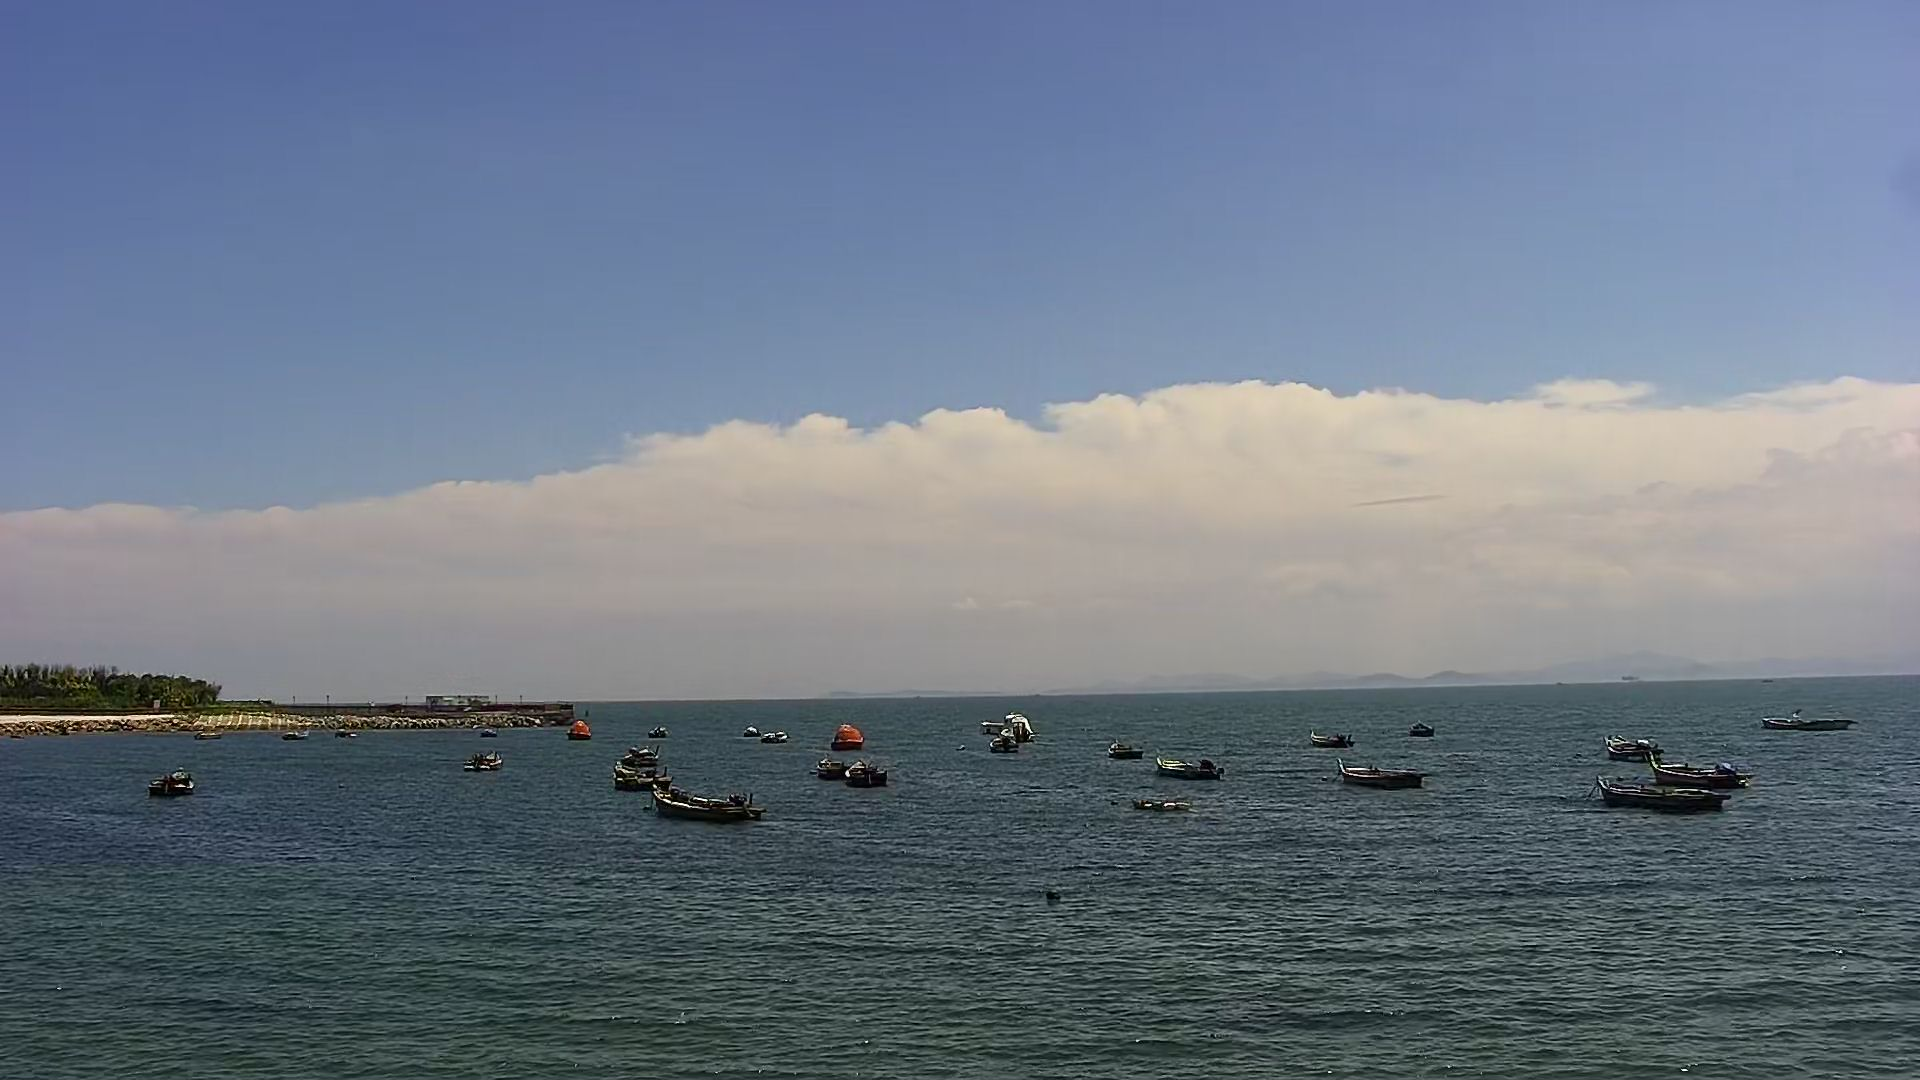ball: (1034, 887, 1071, 907)
boat: (1588, 765, 1749, 822), (1642, 744, 1779, 798), (642, 778, 781, 827), (595, 738, 690, 791), (1758, 699, 1863, 742), (1588, 723, 1692, 766), (1327, 756, 1437, 796), (1149, 750, 1255, 790), (823, 705, 891, 756), (840, 760, 913, 800), (135, 760, 200, 803), (1121, 794, 1211, 824), (448, 740, 514, 781), (996, 700, 1054, 746), (1093, 731, 1158, 767), (1286, 723, 1370, 749), (556, 709, 607, 752), (982, 728, 1035, 764), (798, 749, 851, 785), (1402, 712, 1461, 742), (638, 709, 690, 742), (273, 721, 320, 750), (179, 724, 237, 742), (732, 709, 767, 738), (330, 724, 371, 746)
